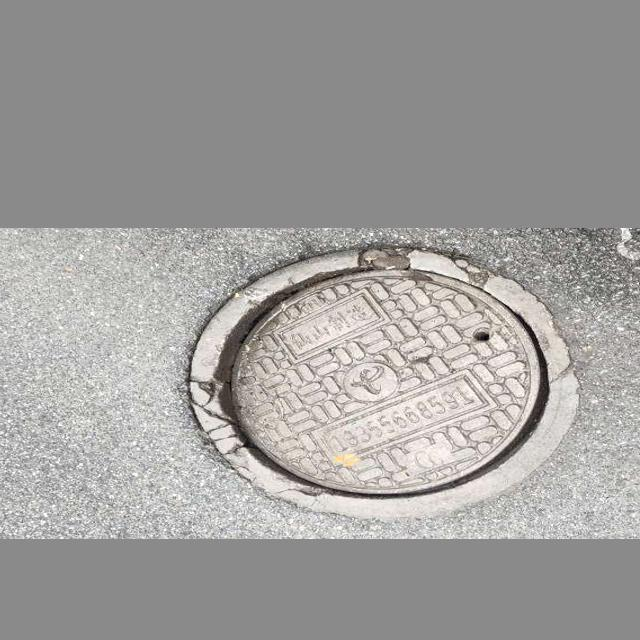circle: (118, 240, 611, 526)
